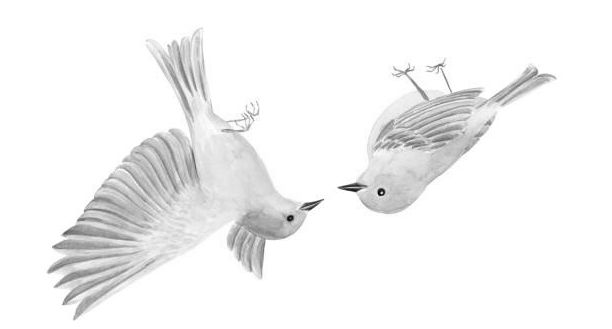Bird: (46, 21, 325, 322), (337, 56, 559, 216)
